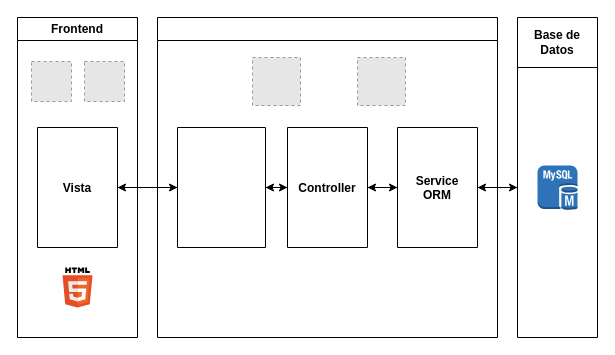
The diagram is 615 pixels wide and 355 high, and some of its shapes have lost their labels. Grey dashed boxes stand in for pictures. The shapes that lost their labels are listed below. From the top down, each one's box as (x1, y1, x2, y2) in pixels, then its label:
(176, 126, 266, 248): REST API
(156, 16, 498, 338): Backend
